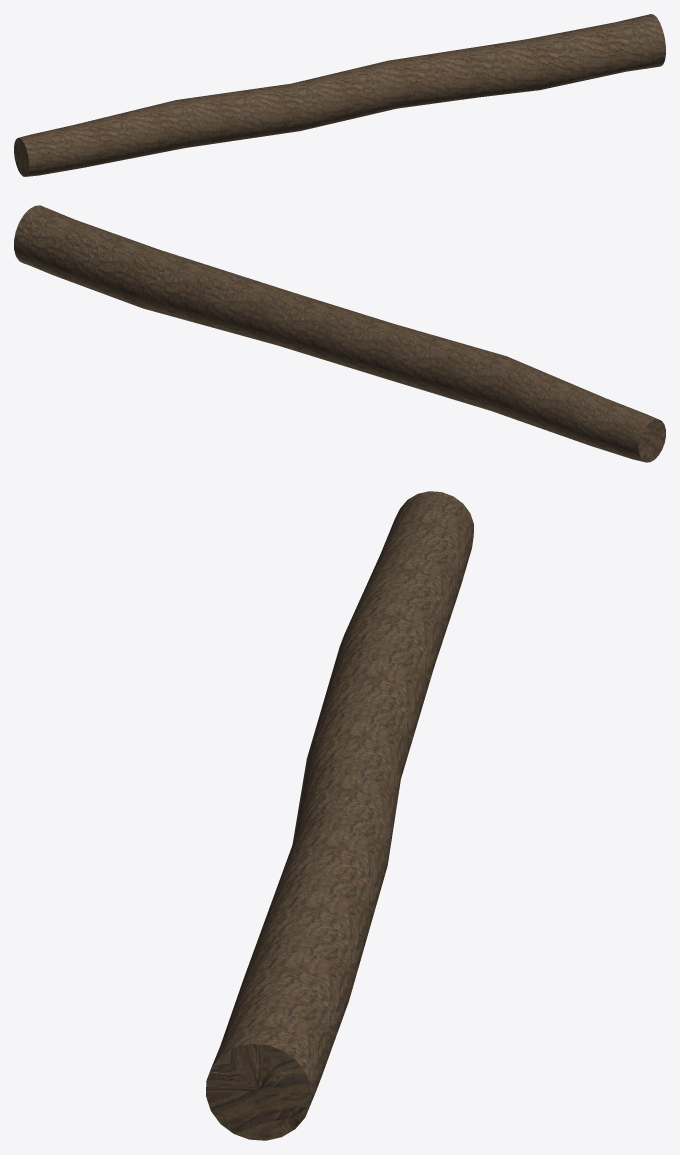
File: bark.fbx
The picture shows the model from 3 angles, top to bottom: view 1: azimuth 30°, elevation 25°; view 2: azimuth 150°, elevation 25°; view 3: azimuth 270°, elevation 25°; orthographic projection. The views are drawn at different scales.
Parts seen in each view (by area): view 1: W1; view 2: W1; view 3: W1.
Part boxes in pixels (box(x1,y1,x2,y2)): W1: box(14, 14, 665, 176); W1: box(14, 205, 665, 462); W1: box(206, 491, 473, 1140).
Bounding box in the file's own units: 212 × 17.87 × 41.27.
